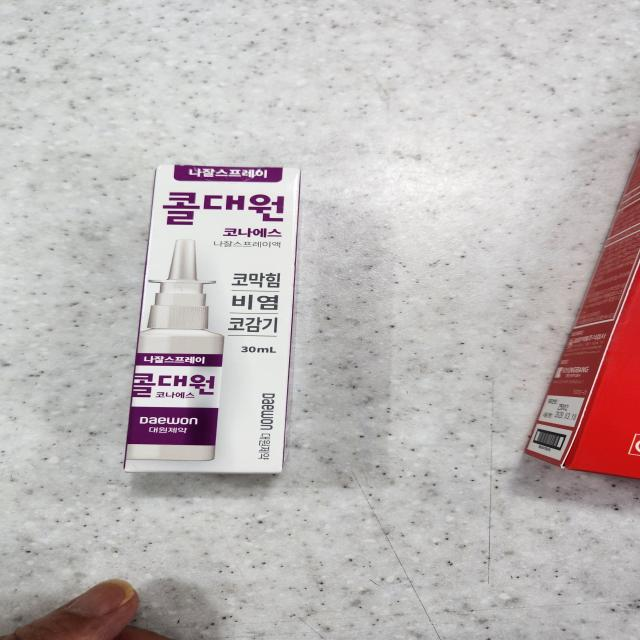box: (124, 165, 298, 471)
